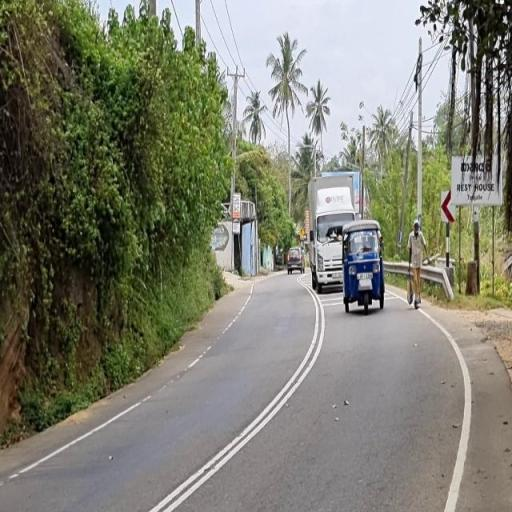double_white_line: (144, 286, 328, 512)
